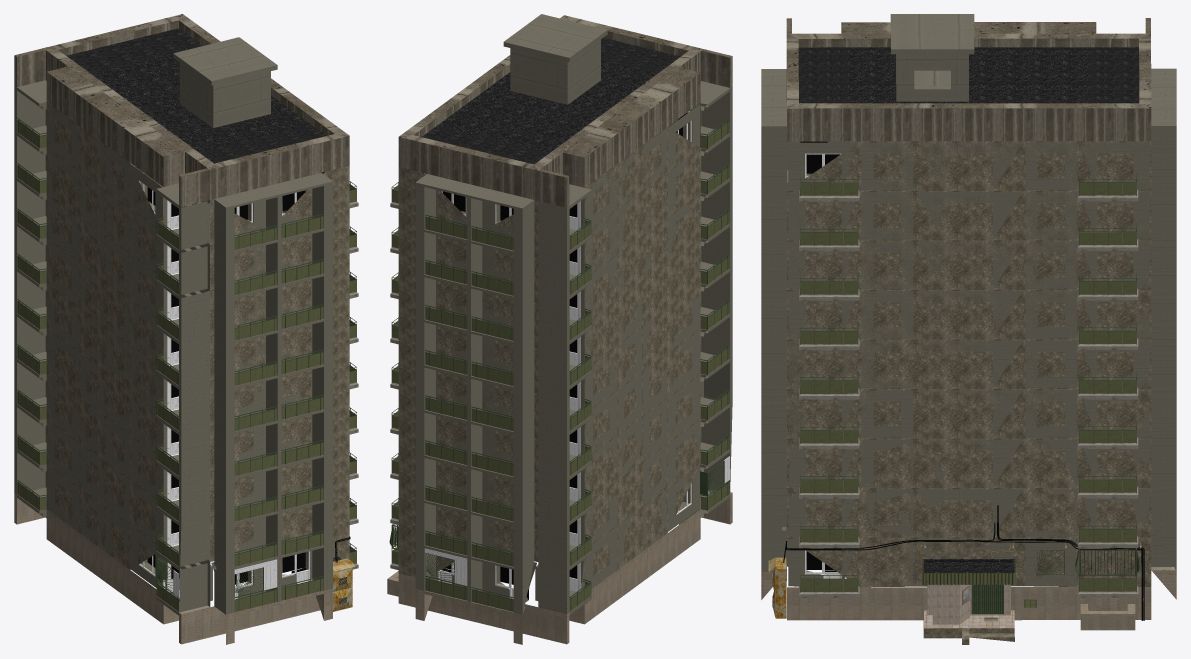
The model's file is house_9storey.glb.
3 renders of one model, left to right at view 1: azimuth 30°, elevation 25°; view 2: azimuth 150°, elevation 25°; view 3: azimuth 270°, elevation 25°, orthographic. The views are drawn at different scales.
Visible parts, largest first — view 1: facade.001_concrate2_0, facade.001_concrate4_0, Roof_faundation.001_Material.003_0, balcony.001_Material.001_0, porch.001_asphalt_0, facade.001_bricks_0, balcony.001_green_metal_0, lattice.001_wood_0, facade.001_black_0, Gas_pipe.001_rusted_metal_0, balcony.001_concrate_0; view 2: facade.001_concrate2_0, facade.001_concrate4_0, Roof_faundation.001_Material.003_0, balcony.001_Material.001_0, porch.001_asphalt_0, facade.001_bricks_0, balcony.001_green_metal_0, lattice.001_wood_0, facade.001_black_0, balcony.001_concrate_0; view 3: facade.001_concrate4_0, facade.001_concrate2_0, Roof_faundation.001_Material.003_0, porch.001_asphalt_0, balcony.001_Material.001_0, facade.001_bricks_0, balcony.001_concrate_0, balcony.001_green_metal_0, facade.001_black_0, porch.001_concrate3_0, porch.001_Material.005_0, Gas_pipe.001_rusted_metal_0 (+1 smaller).
Part boxes in pixels (x1=…): facade.001_concrate2_0: x1=14, y1=37, x2=341, y2=615; facade.001_concrate4_0: x1=46, y1=102, x2=349, y2=569; Roof_faundation.001_Material.003_0: x1=14, y1=14, x2=349, y2=206; balcony.001_Material.001_0: x1=17, y1=121, x2=356, y2=611; porch.001_asphalt_0: x1=66, y1=28, x2=326, y2=163; facade.001_bricks_0: x1=14, y1=493, x2=332, y2=644; balcony.001_green_metal_0: x1=17, y1=117, x2=356, y2=610; lattice.001_wood_0: x1=139, y1=172, x2=310, y2=599; facade.001_black_0: x1=147, y1=172, x2=350, y2=603; Gas_pipe.001_rusted_metal_0: x1=333, y1=558, x2=355, y2=611; balcony.001_concrate_0: x1=333, y1=201, x2=358, y2=569; facade.001_concrate2_0: x1=415, y1=14, x2=732, y2=615; facade.001_concrate4_0: x1=398, y1=127, x2=700, y2=588; Roof_faundation.001_Material.003_0: x1=398, y1=15, x2=732, y2=207; balcony.001_Material.001_0: x1=391, y1=121, x2=729, y2=611; porch.001_asphalt_0: x1=422, y1=38, x2=680, y2=164; facade.001_bricks_0: x1=387, y1=492, x2=732, y2=644; balcony.001_green_metal_0: x1=389, y1=118, x2=730, y2=611; lattice.001_wood_0: x1=424, y1=111, x2=729, y2=598; facade.001_black_0: x1=442, y1=112, x2=687, y2=599; balcony.001_concrate_0: x1=390, y1=186, x2=398, y2=569; facade.001_concrate4_0: x1=787, y1=141, x2=1151, y2=587; facade.001_concrate2_0: x1=761, y1=14, x2=1176, y2=586; Roof_faundation.001_Material.003_0: x1=786, y1=18, x2=1151, y2=141; porch.001_asphalt_0: x1=798, y1=47, x2=1139, y2=573; balcony.001_Material.001_0: x1=800, y1=182, x2=1136, y2=607; facade.001_bricks_0: x1=761, y1=567, x2=1176, y2=630; balcony.001_concrate_0: x1=799, y1=183, x2=1138, y2=597; balcony.001_green_metal_0: x1=800, y1=172, x2=1139, y2=614; facade.001_black_0: x1=783, y1=141, x2=1144, y2=620; porch.001_concrate3_0: x1=927, y1=584, x2=1010, y2=624; porch.001_Material.005_0: x1=923, y1=610, x2=1014, y2=644; Gas_pipe.001_rusted_metal_0: x1=768, y1=543, x2=1141, y2=618.
Size of the model in its own units: 14.94 by 33.81 by 22.81.
18 materials, 16 textured.
